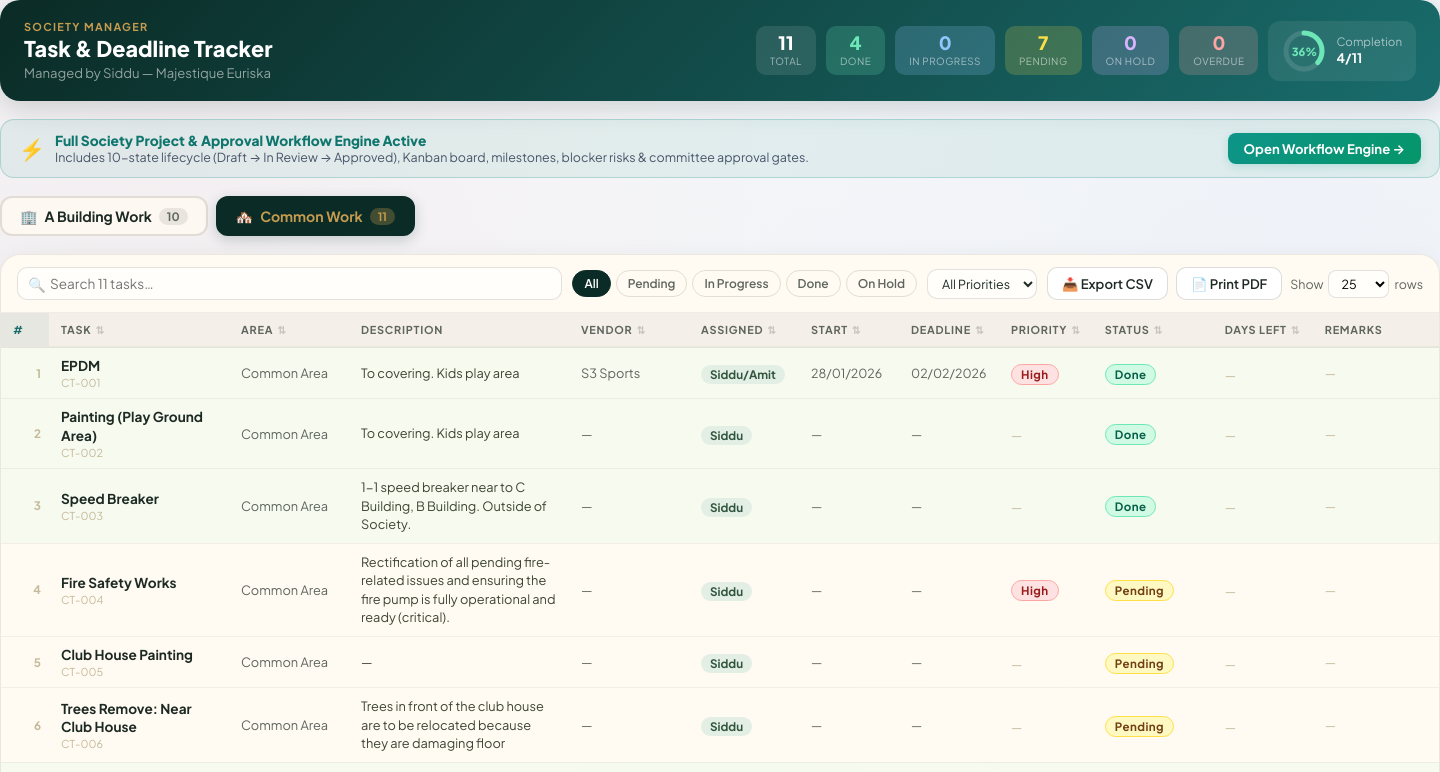
it: ManagerTaskTracker Component › switches tabs between Common Work and A Building Work
The image size is (1440, 772).
Step 1. Click the button "🏢 A Building Work 10" → (104,216), box [0, 196, 208, 236]
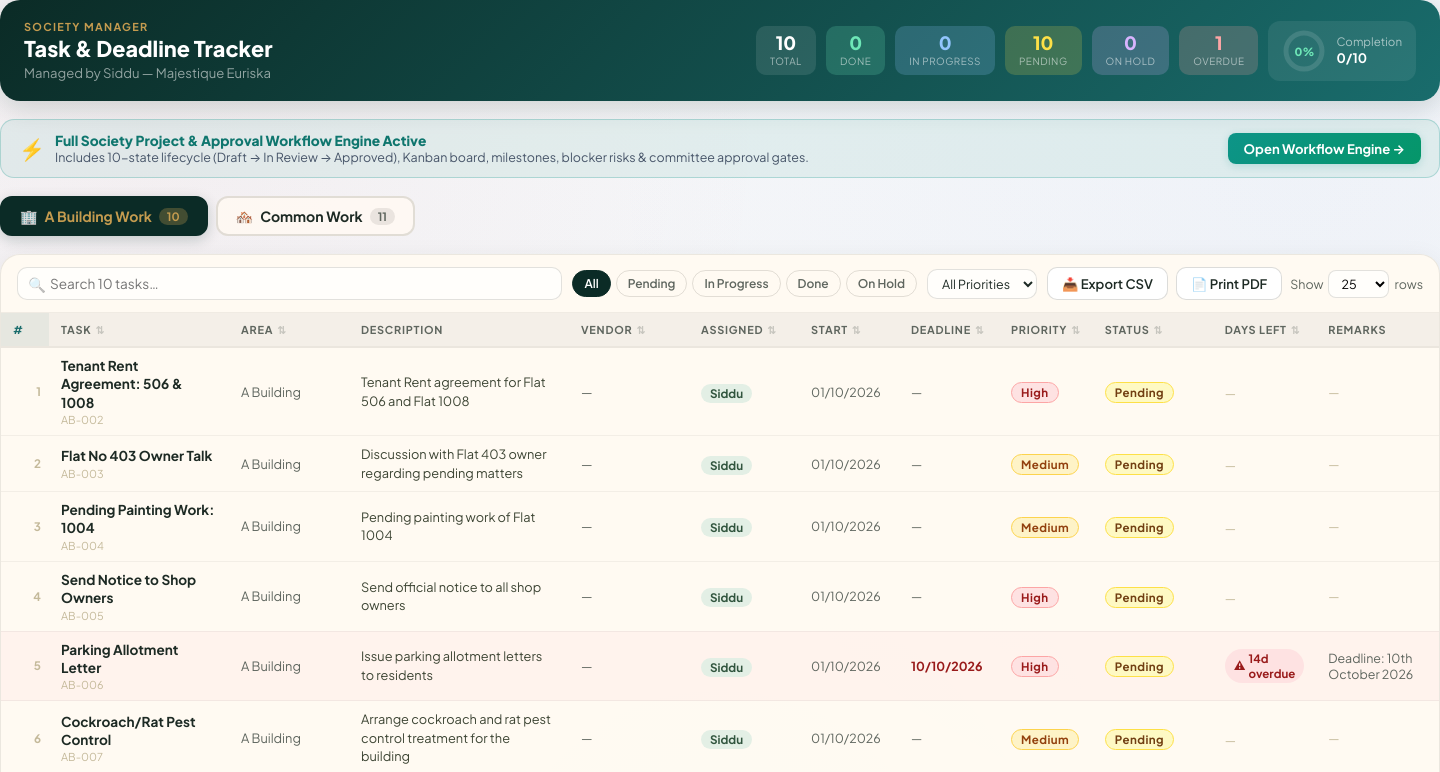
Result: the text "AB-002" is shown at [61, 413, 104, 426]
